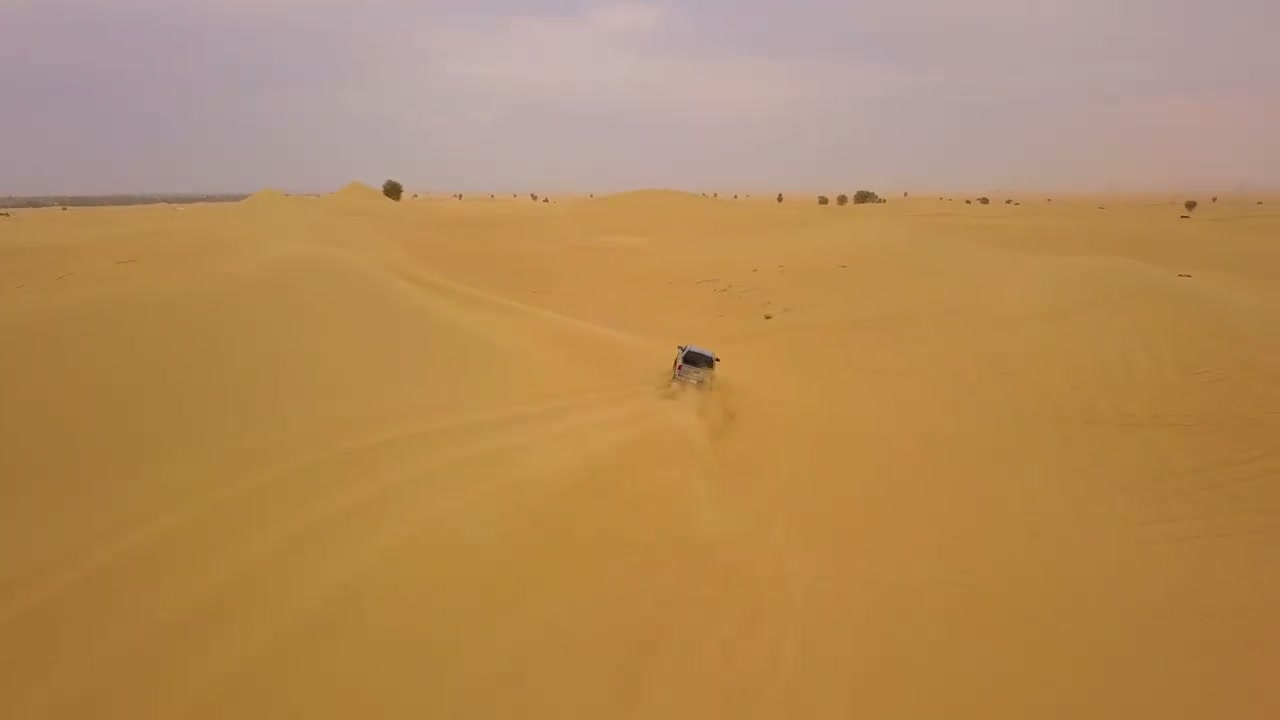vehicle_track: (0, 377, 673, 719)
